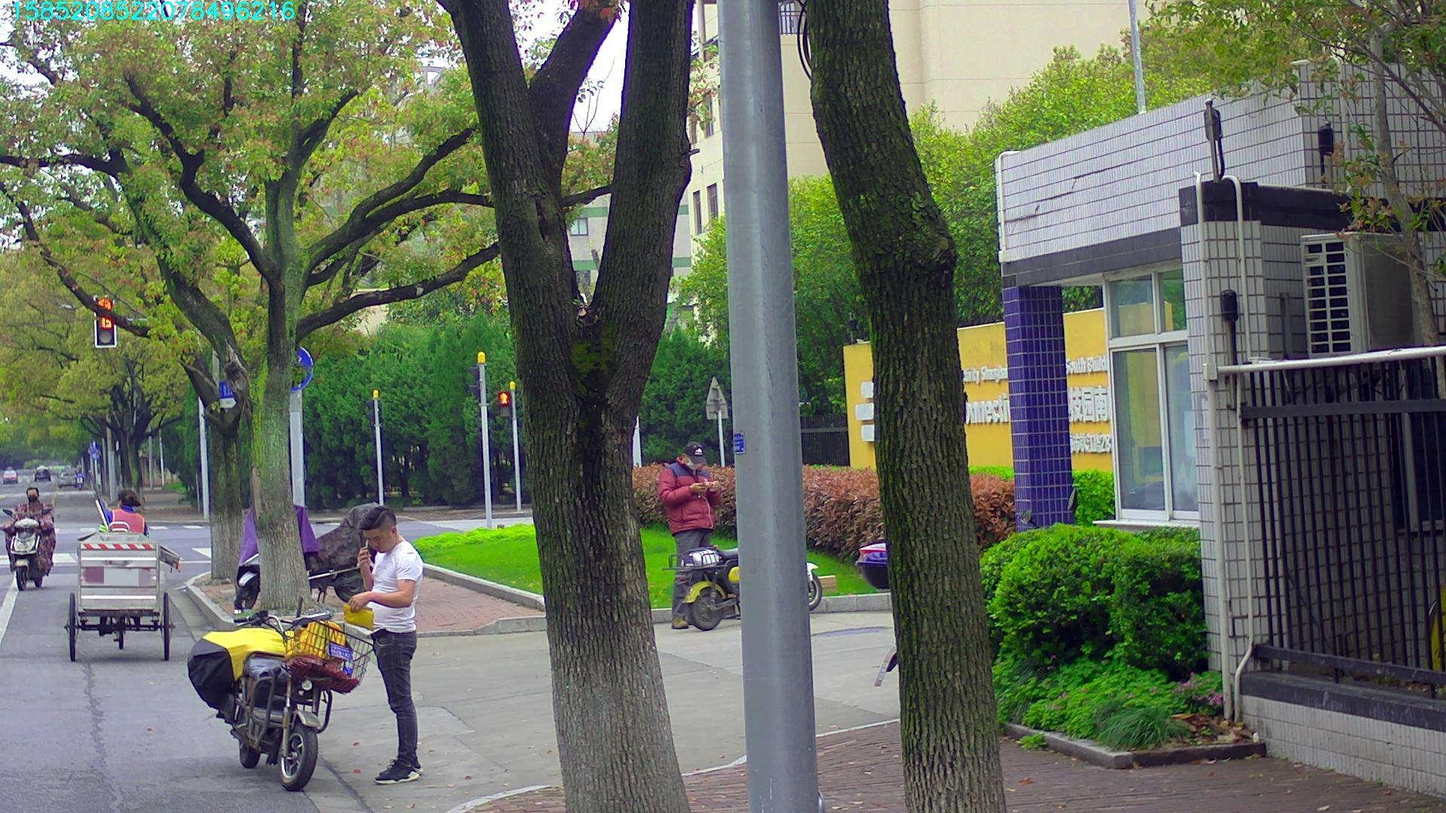red: (95, 295, 115, 347)
